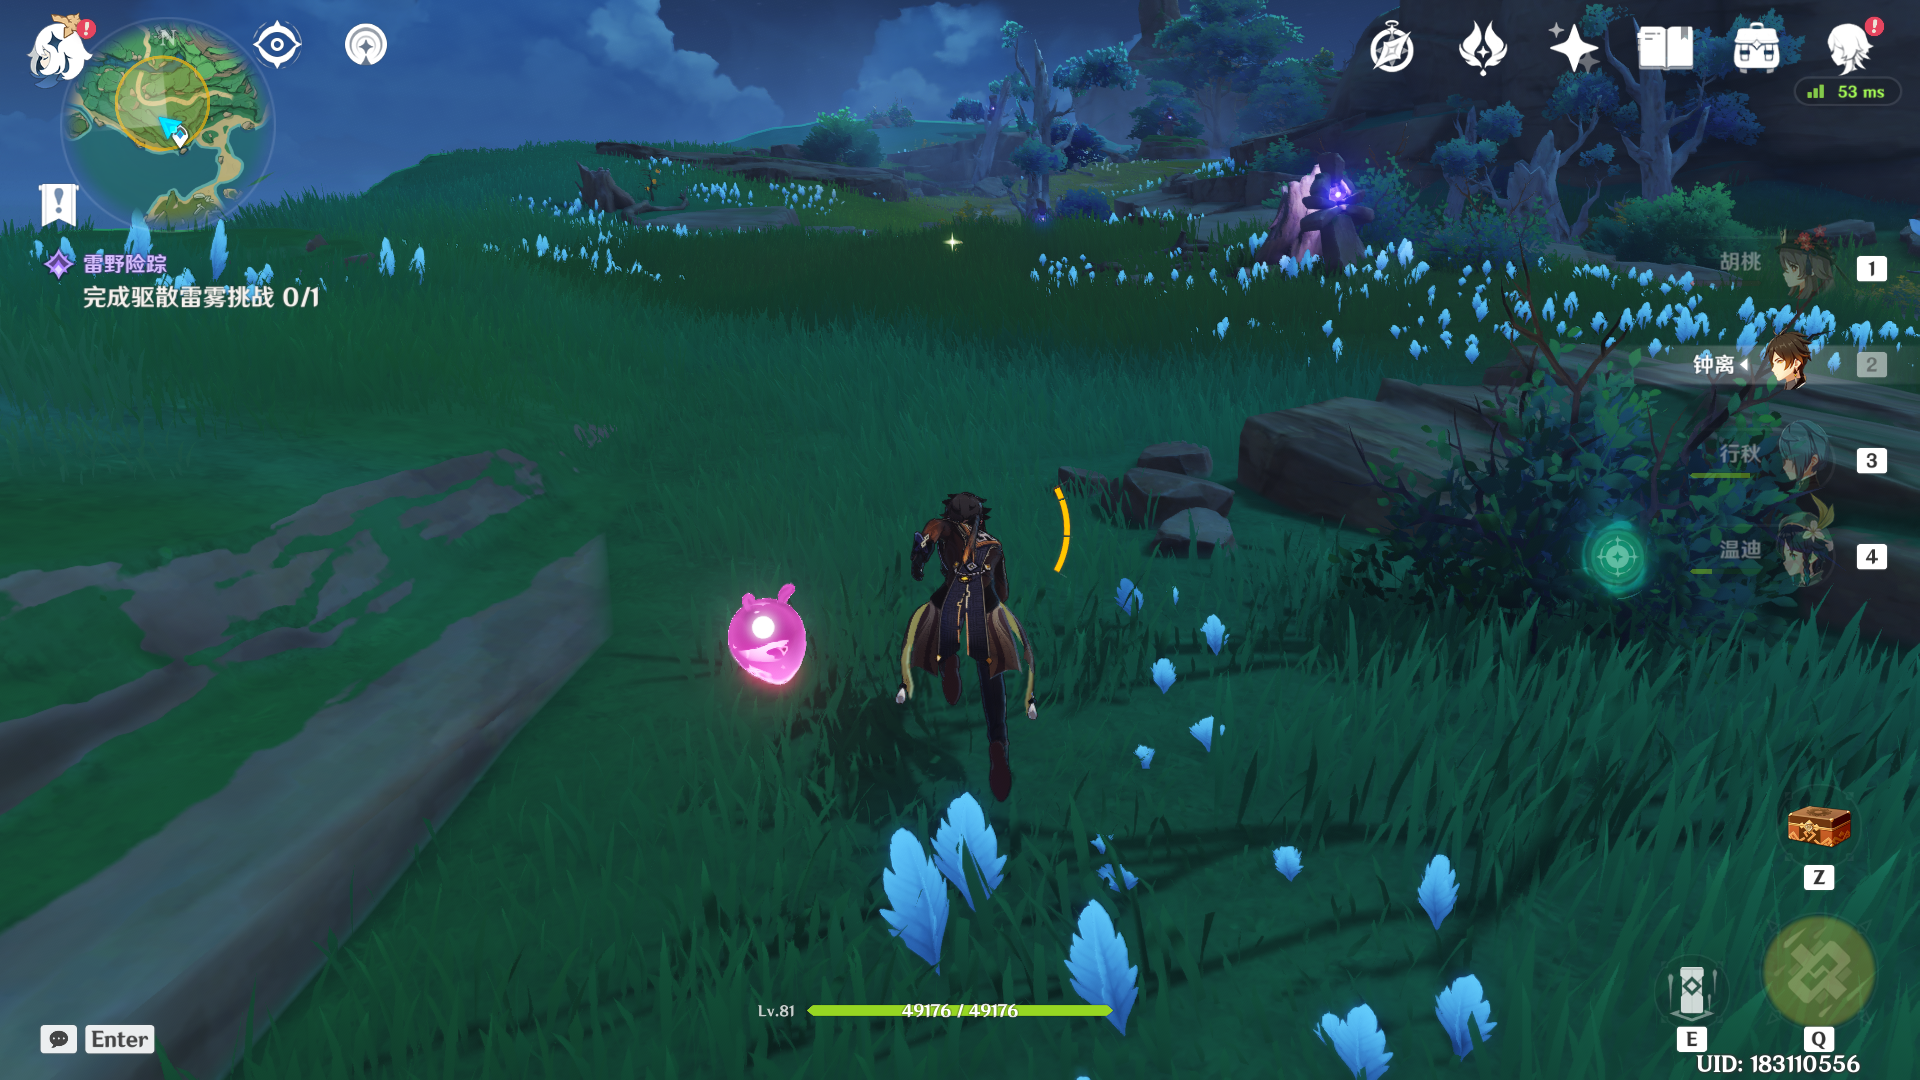character: (841, 440, 1087, 843)
